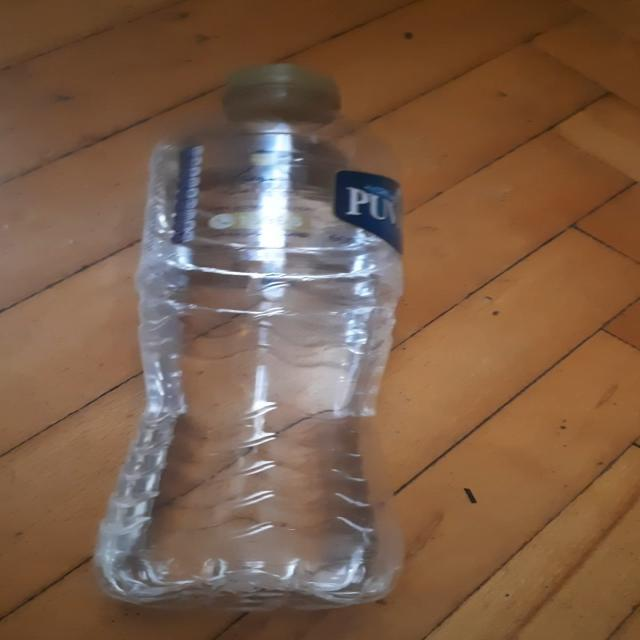Plastic: (91, 63, 404, 621)
